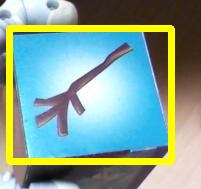Blue4: (9, 28, 171, 161)
